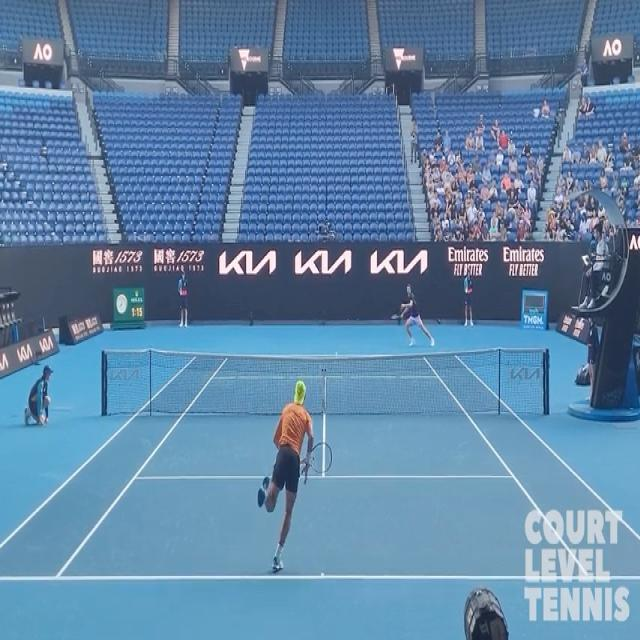serve_followthrough: (246, 342, 334, 583)
